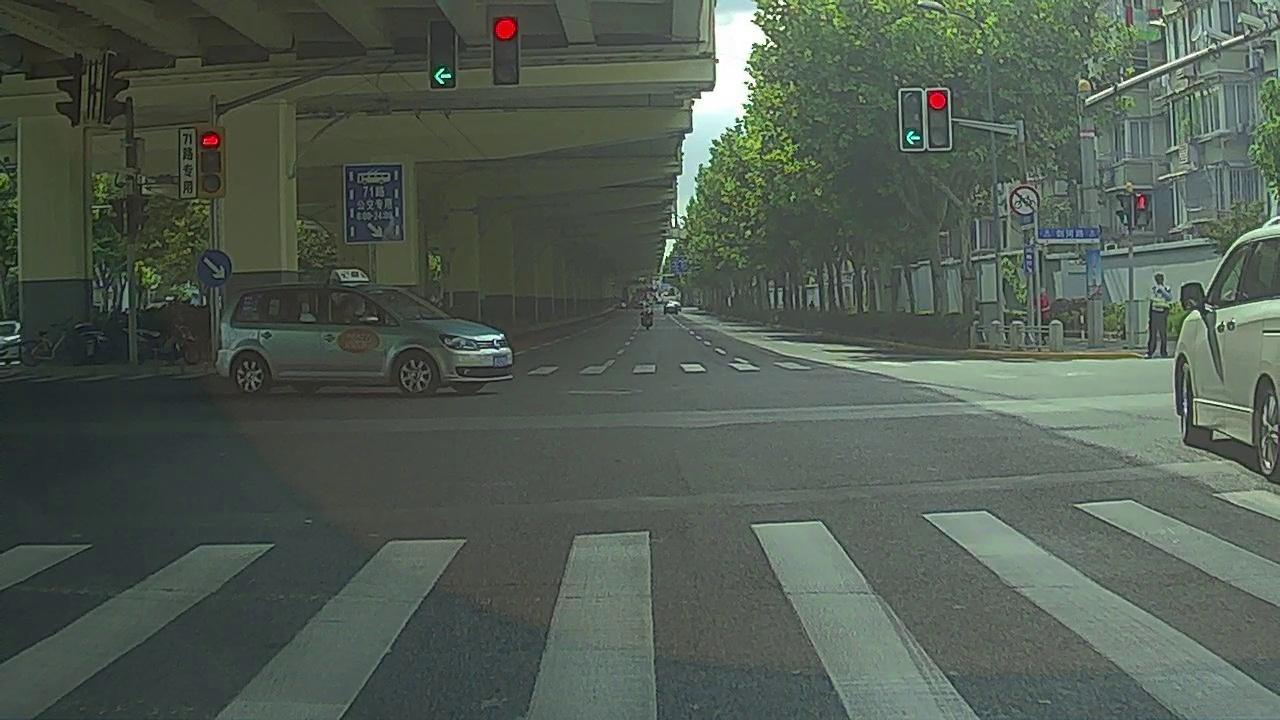traffic_light: (492, 13, 521, 85), (429, 18, 457, 88), (900, 88, 926, 149), (928, 88, 951, 149)
